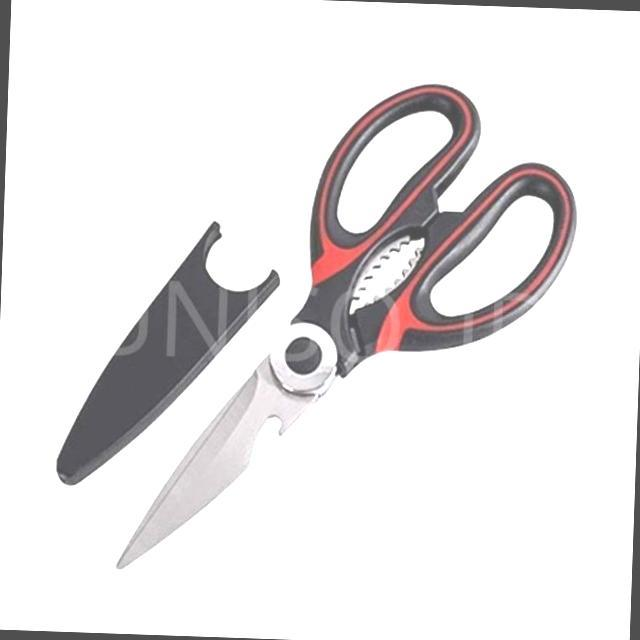Scissors: (43, 56, 616, 614)
